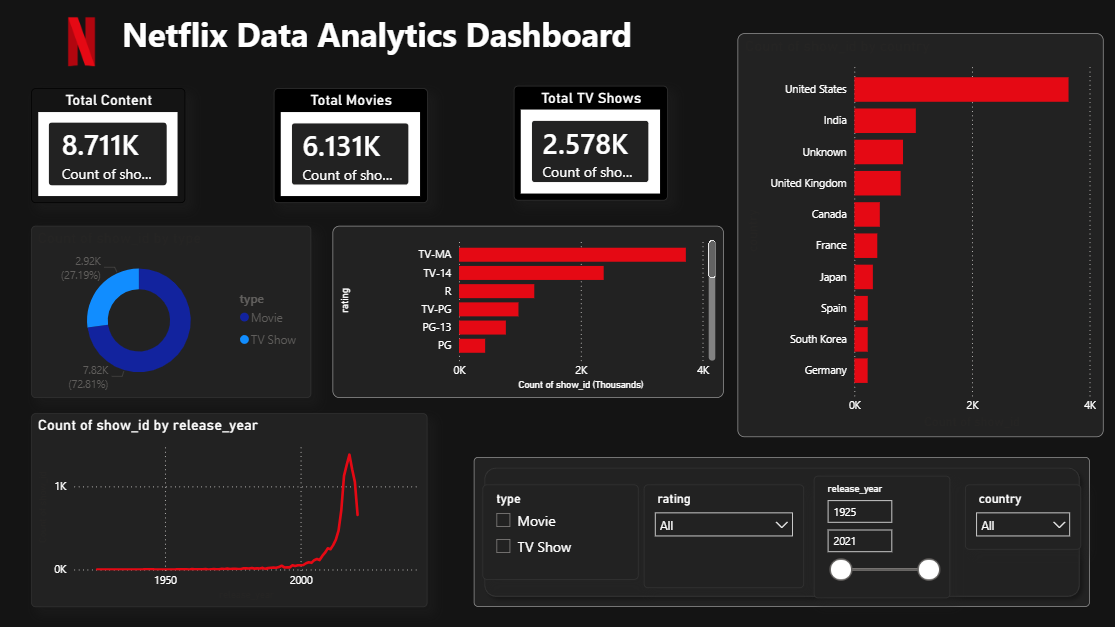

The page's visual inventory and layout, read from the dashboard file:
{"tool":"powerbi","page":{"name":"Page 1","canvas":[1280,720],"ordinal":0},"visuals":[{"type":"shape","box":[541.4,525.7,704.3,171.4],"z":0},{"type":"cardVisual","title":"Total Content","fields":{"Data":["Count(cleaned_netflix_data.show_id)"]},"box":[35.7,104.3,175.7,131.4],"z":1000},{"type":"cardVisual","title":"Total Movies","fields":{"Data":["Count(cleaned_netflix_data.show_id)"]},"box":[312.9,104.3,175.7,131.4],"z":2000},{"type":"donutChart","fields":{"Category":["cleaned_netflix_data.type"],"Y":["CountNonNull(cleaned_netflix_data.show_id)"]},"box":[35.7,261.4,320,197.1],"z":3000},{"type":"clusteredBarChart","fields":{"Category":["cleaned_netflix_data.country"],"Y":["CountNonNull(cleaned_netflix_data.show_id)"]},"box":[842.9,41.4,418.6,461.4],"z":4000},{"type":"lineChart","fields":{"Category":["cleaned_netflix_data.release_year"],"Y":["CountNonNull(cleaned_netflix_data.show_id)"]},"box":[35.7,475.7,452.9,221.4],"z":5000},{"type":"clusteredBarChart","fields":{"Category":["cleaned_netflix_data.rating"],"Y":["CountNonNull(cleaned_netflix_data.show_id)"]},"box":[380,261.4,447.1,197.1],"z":6000},{"type":"slicer","fields":{"Values":["cleaned_netflix_data.type"]},"box":[551.4,557.1,178.6,108.6],"z":7000},{"type":"slicer","fields":{"Values":["cleaned_netflix_data.country"]},"box":[1102.9,557.1,132.9,74.3],"z":8000},{"type":"slicer","fields":{"Values":["cleaned_netflix_data.rating"]},"box":[735.7,557.1,182.9,118.6],"z":9000},{"type":"slicer","fields":{"Values":["cleaned_netflix_data.release_year"]},"box":[930,547.1,155.7,140],"z":10000},{"type":"textbox","box":[114.3,12.9,632.9,91.4],"z":11000},{"type":"cardVisual","title":"Total TV Shows","fields":{"Data":["Count(cleaned_netflix_data.show_id)"]},"box":[587.1,101.4,175.7,131.4],"z":12000},{"type":"image","box":[0,0,186,102],"z":12001}]}

Visuals, with their boxes in screenshot pixels (x1, y1, x2, y2), scaled from the page's 1280x720 canvas onto the 1115x627 screenshot:
shape: select_region(472, 458, 1085, 607)
"Total Content" cardVisual: select_region(31, 91, 184, 205)
"Total Movies" cardVisual: select_region(273, 91, 426, 205)
donutChart - cleaned_netflix_data.type x CountNonNull(cleaned_netflix_data.show_id): select_region(31, 228, 310, 399)
clusteredBarChart - cleaned_netflix_data.country x CountNonNull(cleaned_netflix_data.show_id): select_region(734, 36, 1099, 438)
lineChart - cleaned_netflix_data.release_year x CountNonNull(cleaned_netflix_data.show_id): select_region(31, 414, 426, 607)
clusteredBarChart - cleaned_netflix_data.rating x CountNonNull(cleaned_netflix_data.show_id): select_region(331, 228, 720, 399)
slicer - cleaned_netflix_data.type: select_region(480, 485, 636, 580)
slicer - cleaned_netflix_data.country: select_region(961, 485, 1076, 550)
slicer - cleaned_netflix_data.rating: select_region(641, 485, 800, 588)
slicer - cleaned_netflix_data.release_year: select_region(810, 476, 946, 598)
textbox: select_region(100, 11, 651, 91)
"Total TV Shows" cardVisual: select_region(511, 88, 664, 203)
image: select_region(0, 0, 162, 89)
